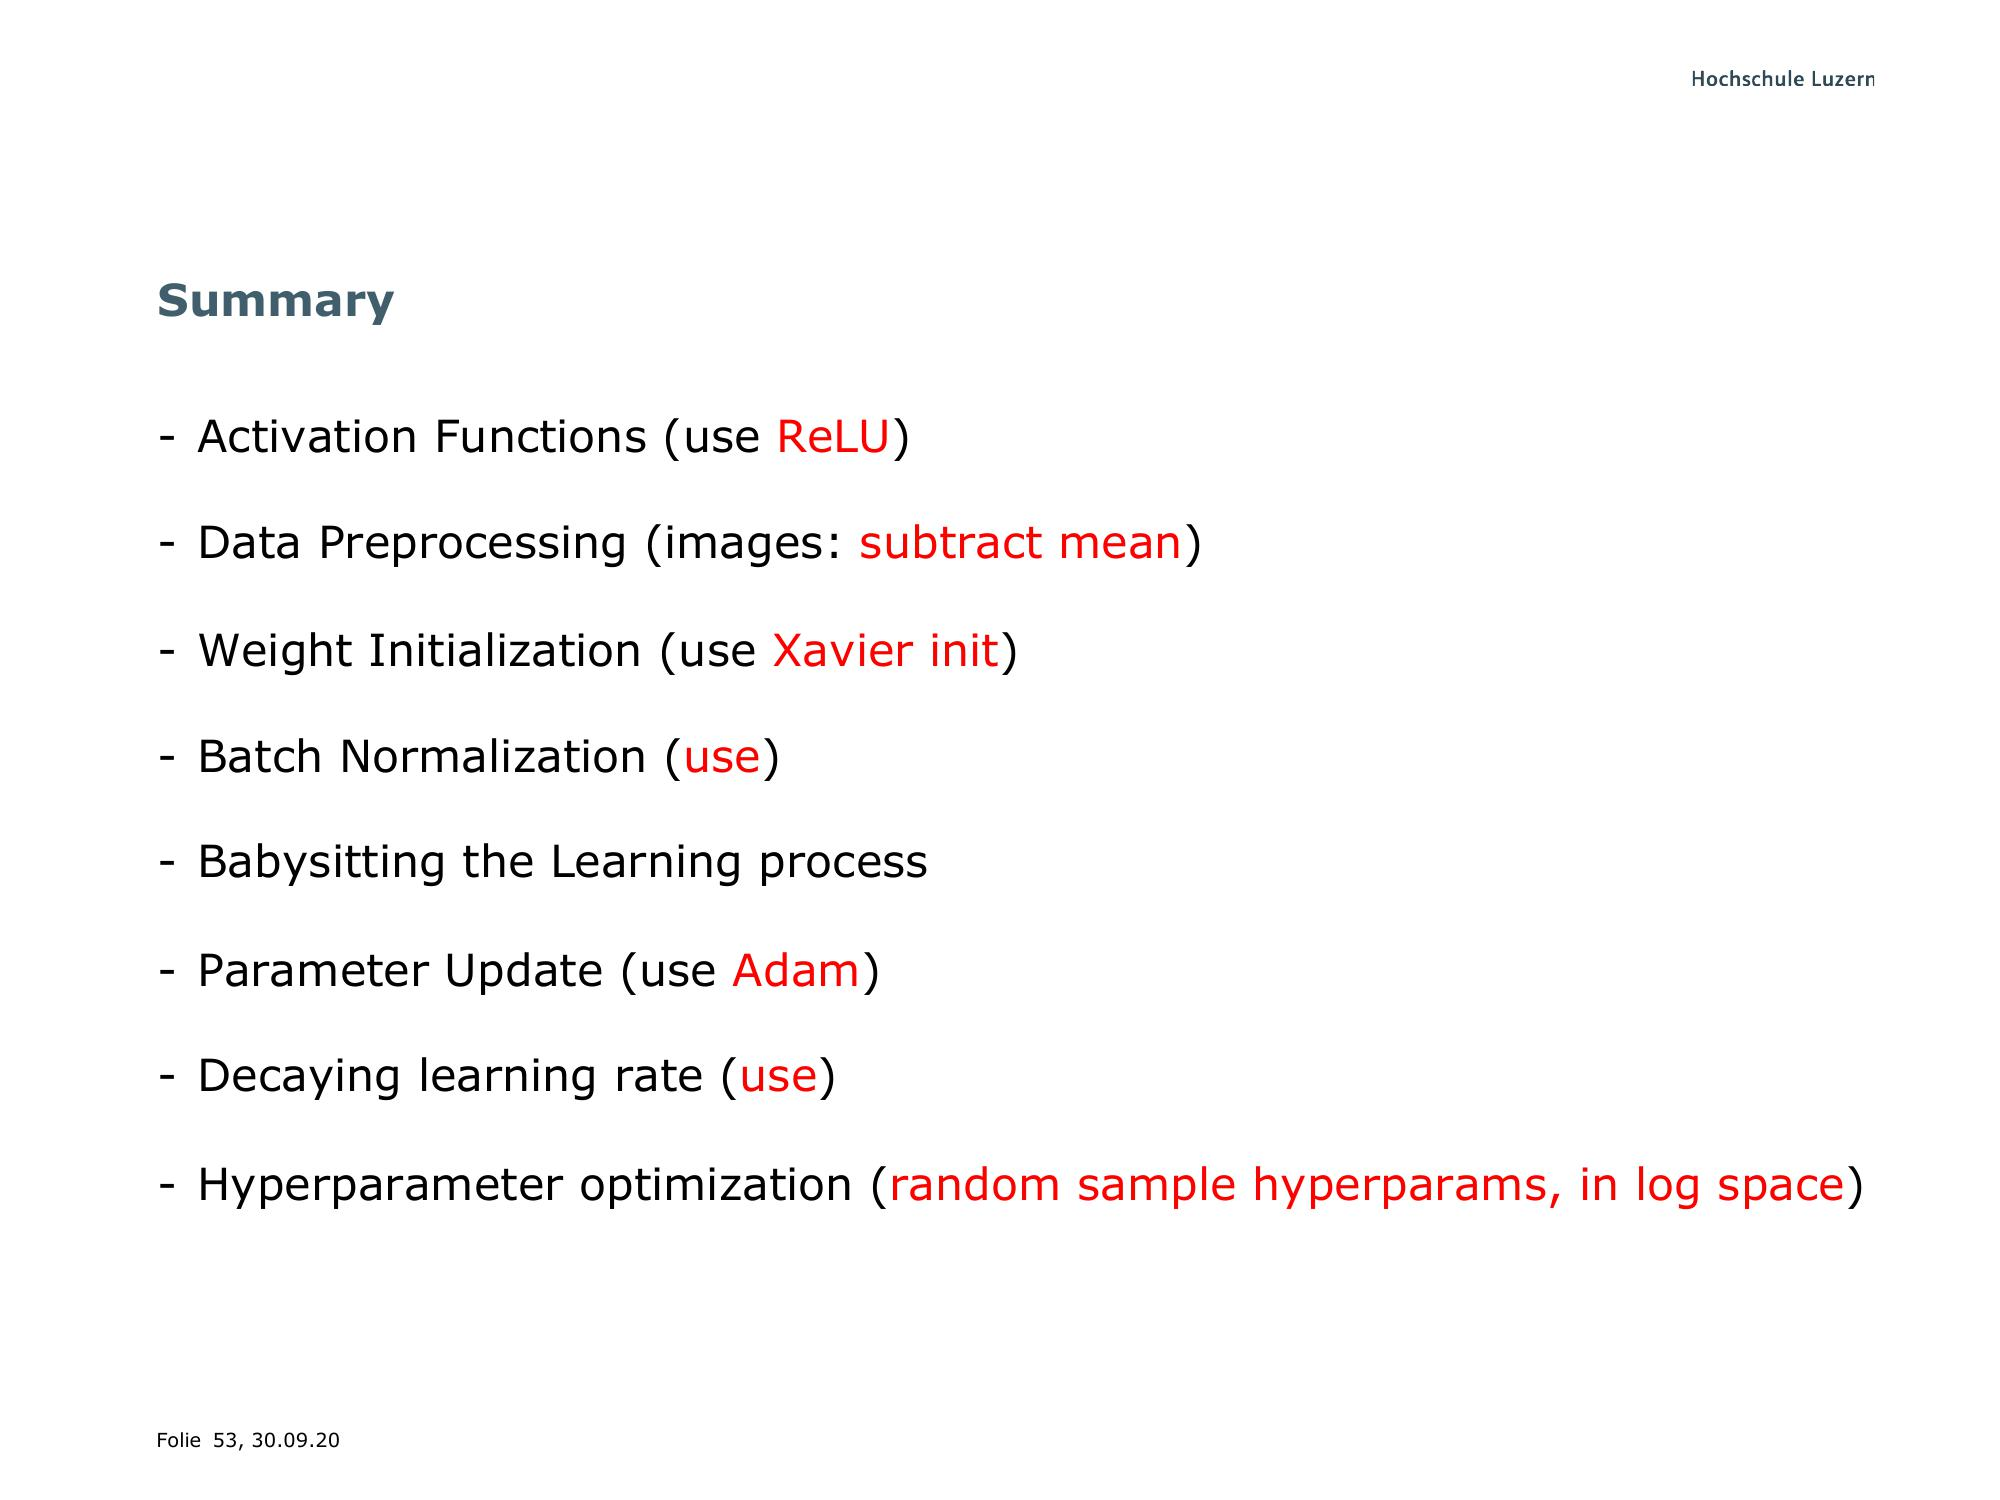Title: (162, 269, 417, 342)
